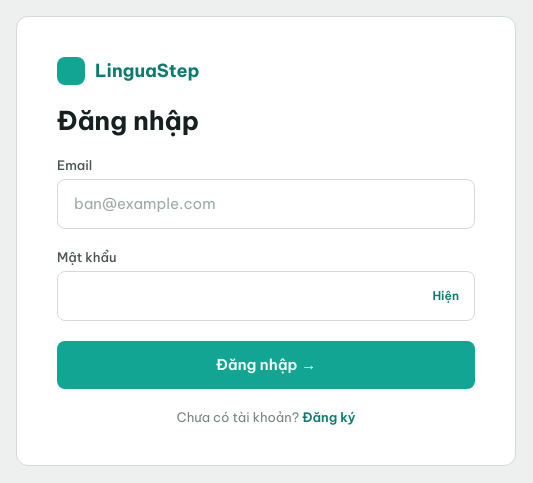
Test: login › lets the user reveal the password they typed
Type "matkhau123" into the password field labelled "Mật khẩu" at (266, 296), box [57,271,475,321]
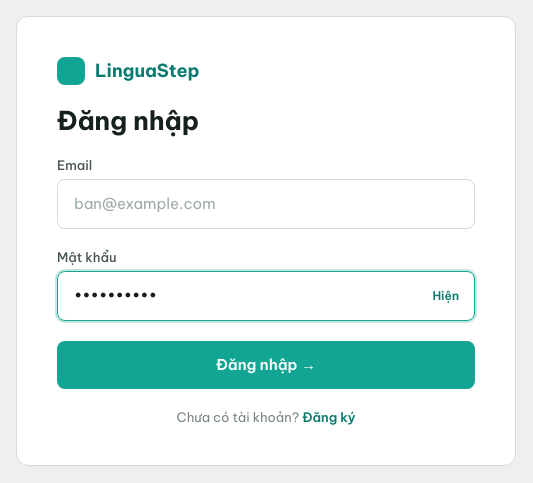
Click the button with aria-label "Hiện mật khẩu" at (446, 296), box [424,284,467,308]
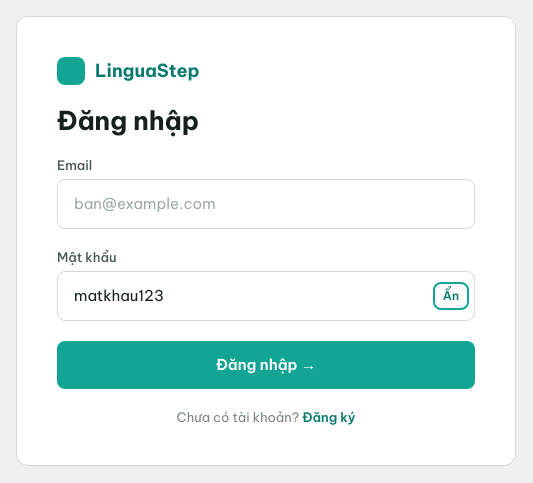
Expected: the field labelled "Mật khẩu" shows its text, [57,271,475,321]
